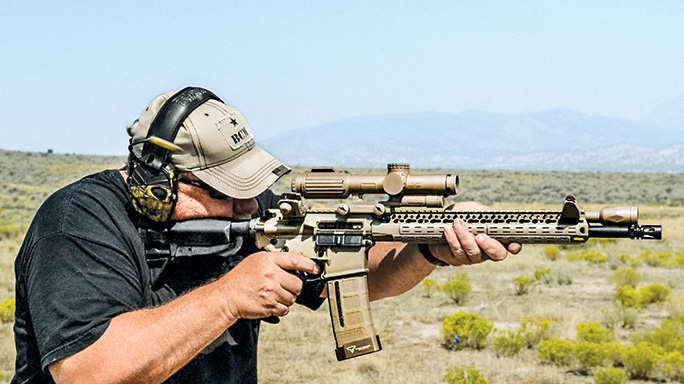Rifle: (130, 160, 670, 363)
